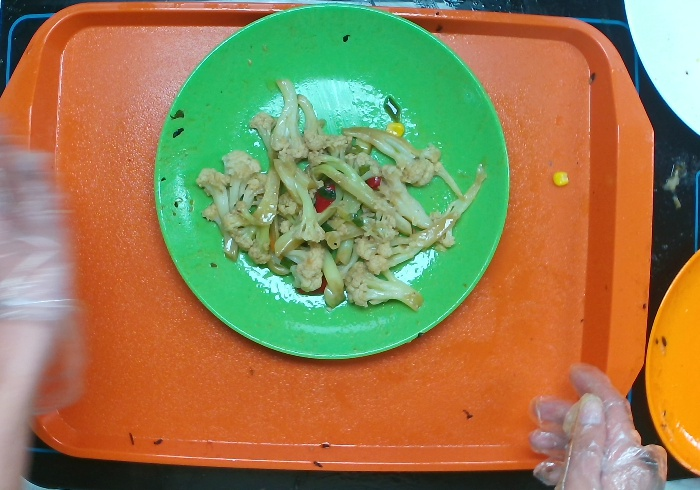HZYJPL-Lv_Se_Yuan_Pan: (157, 4, 512, 363)
